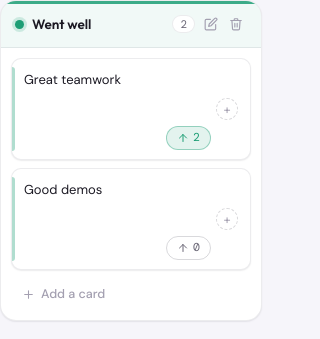
Test: Column › enters edit mode when title is clicked
What coordinates should you click on to do the following:
click the text "Went well"
I would click on:
 (62, 24)
Its box is [32,15,91,33].
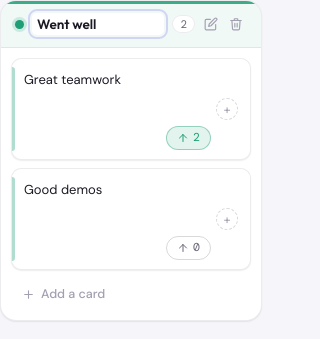
expect the field showing "Went well" is shown: met, box [32,13,164,35]
